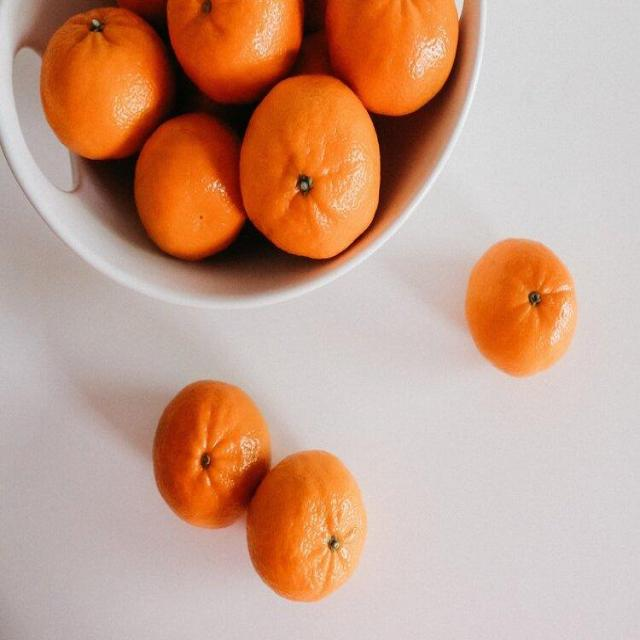10_tangerine: (235, 76, 384, 268), (148, 366, 278, 538), (245, 439, 375, 606), (32, 10, 176, 156), (462, 228, 587, 386), (134, 109, 249, 267), (321, 0, 459, 119), (165, 0, 296, 111)
